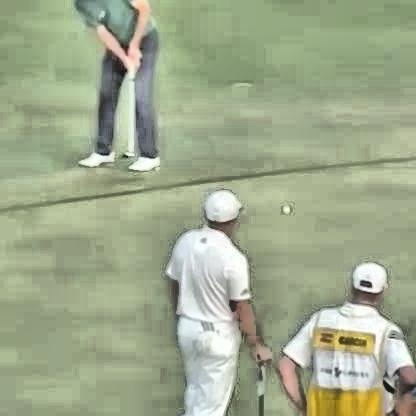golfball: (277, 202, 287, 212)
